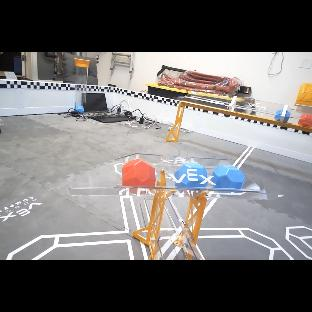Autolimit: (161, 226, 182, 253), (233, 146, 255, 169), (202, 198, 217, 219), (166, 247, 181, 260), (187, 208, 197, 220)
Goal: (166, 92, 312, 142)
Loader: (74, 58, 90, 113)
Low_goal: (158, 198, 204, 260), (144, 199, 153, 221)
Med_goal: (68, 153, 279, 260)
Parking - B: (0, 119, 2, 125), (0, 128, 1, 134)
V5_BLUE: (76, 105, 84, 113)
blueingoal: (171, 163, 209, 188), (209, 165, 245, 189), (274, 109, 282, 121), (283, 111, 290, 122)
redingoal: (122, 159, 155, 186), (298, 114, 312, 128)
